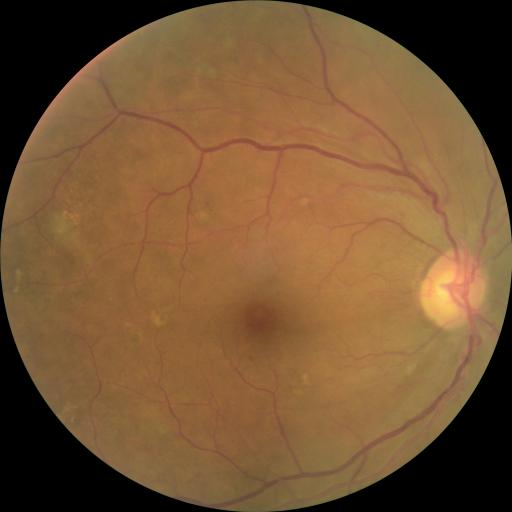Optic Cup: (438, 272, 470, 312)
Optic Disc: (420, 249, 488, 329)
